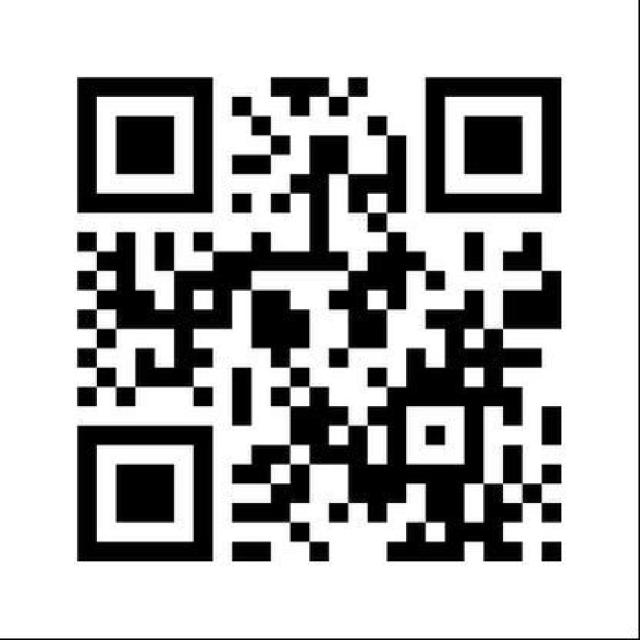QRCode: (68, 67, 574, 570)
